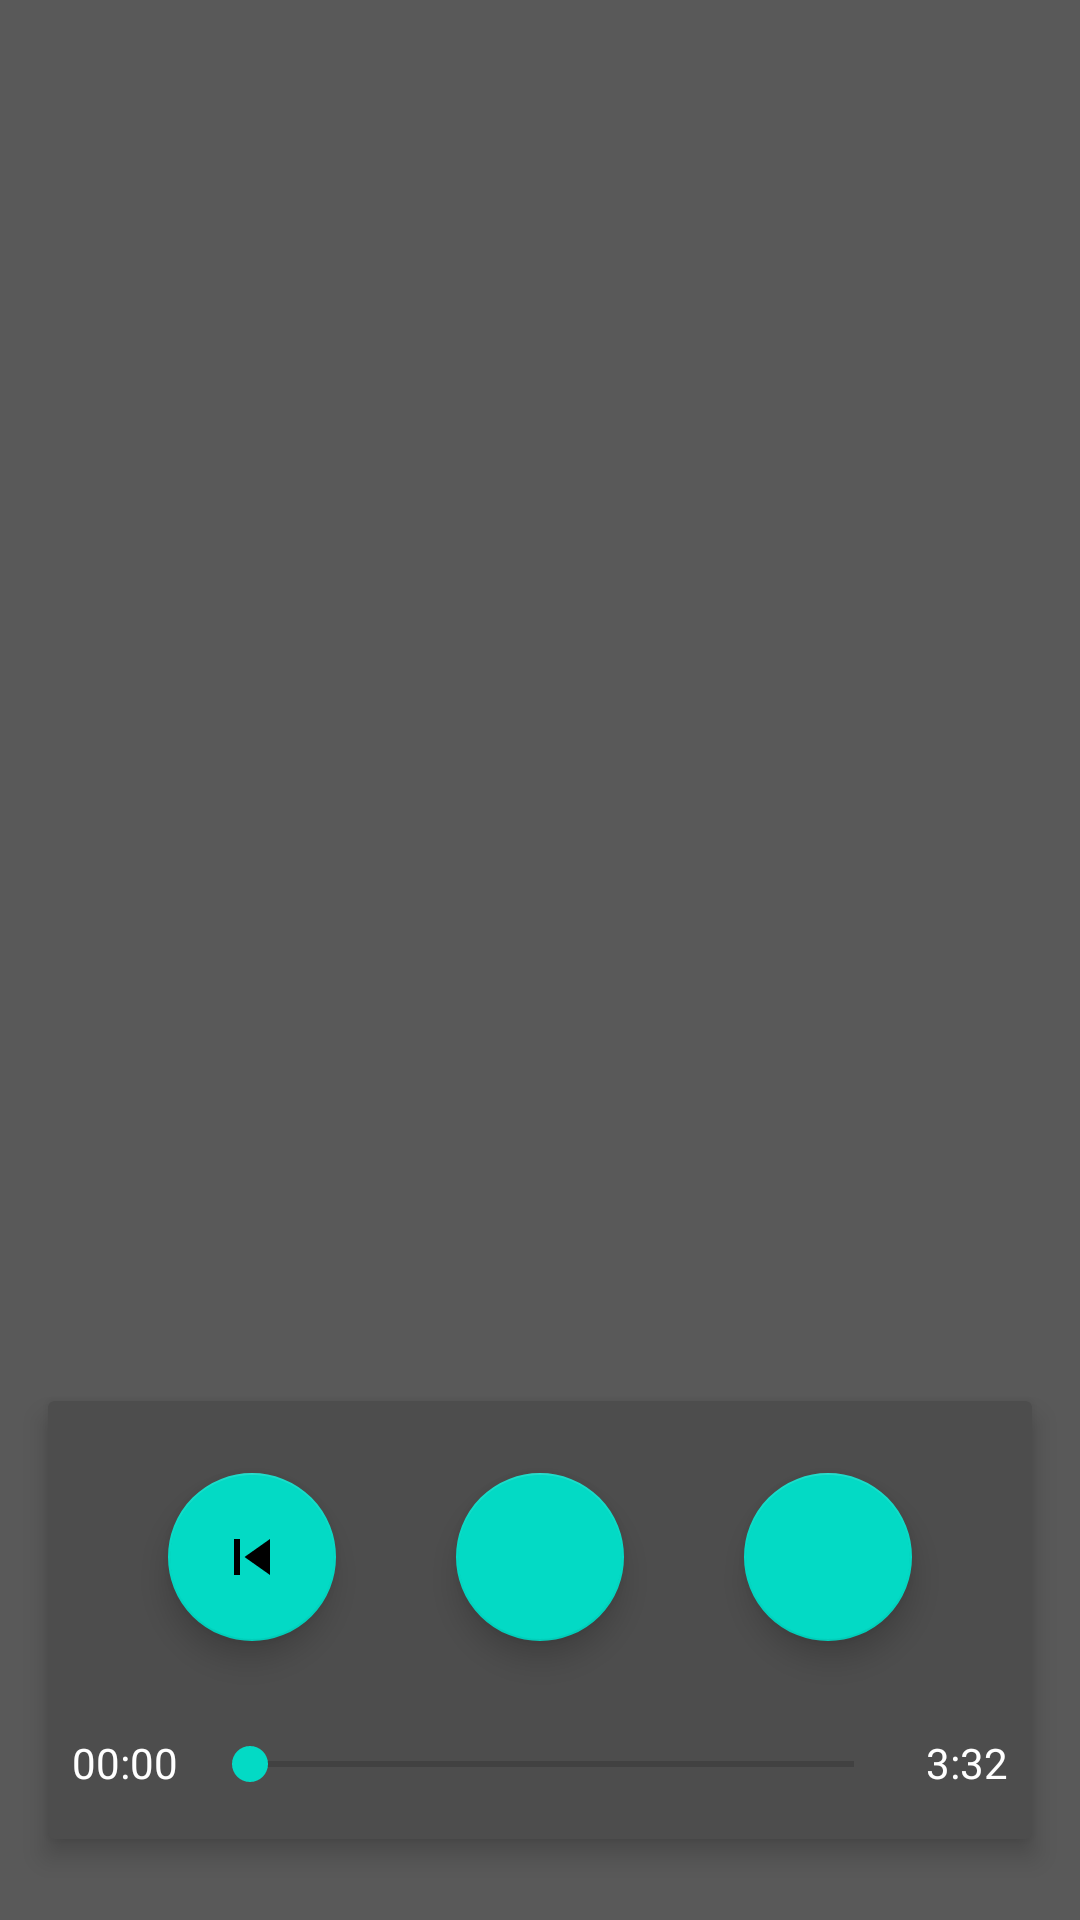

Screen size 1080px x 1920px. Icon name, then its center in pixels as point (x, y):
Previous Song: point (252, 1557)
